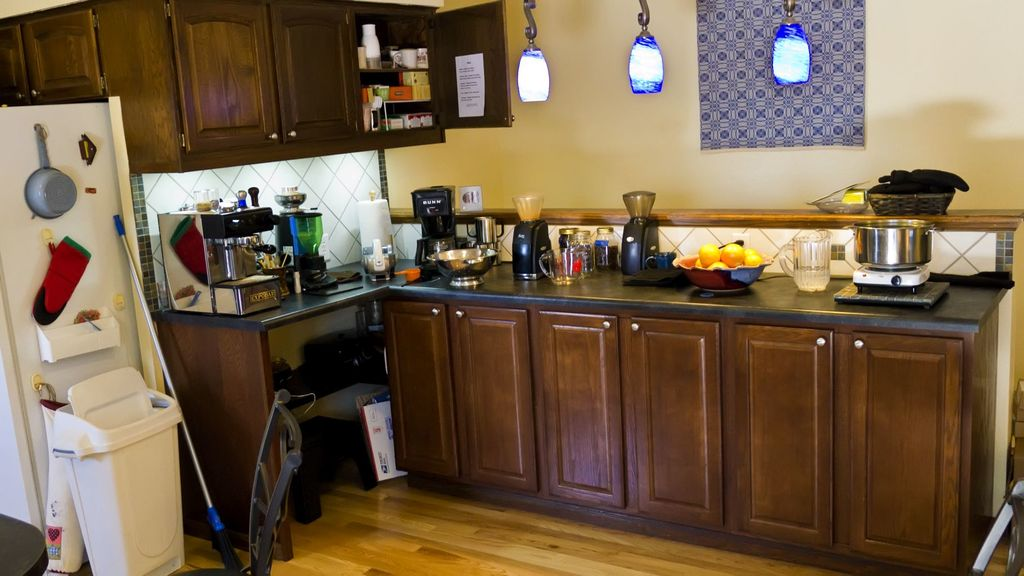Refrigerator: (13, 69, 172, 576)
